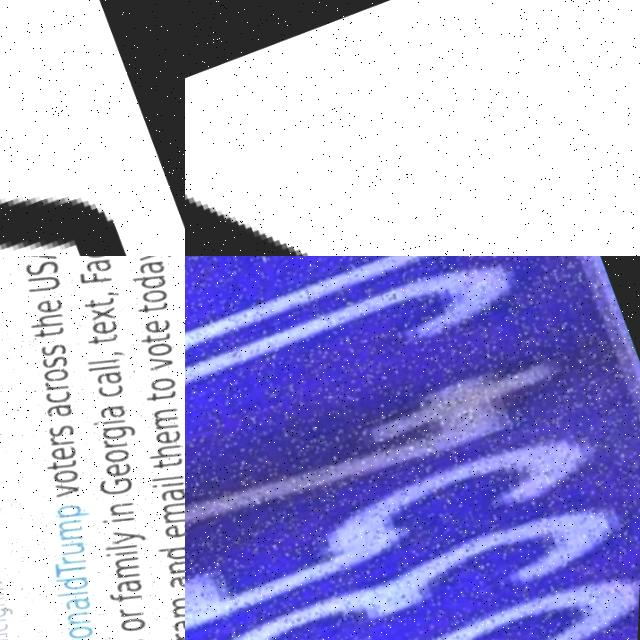3: (185, 460, 638, 640)
4: (185, 325, 583, 582)
5: (185, 391, 612, 640)
6: (193, 529, 640, 640)
J: (185, 256, 529, 483)
L: (185, 256, 498, 410)
U: (0, 6, 185, 256)
X: (185, 256, 474, 349)
Y: (185, 0, 640, 256)
